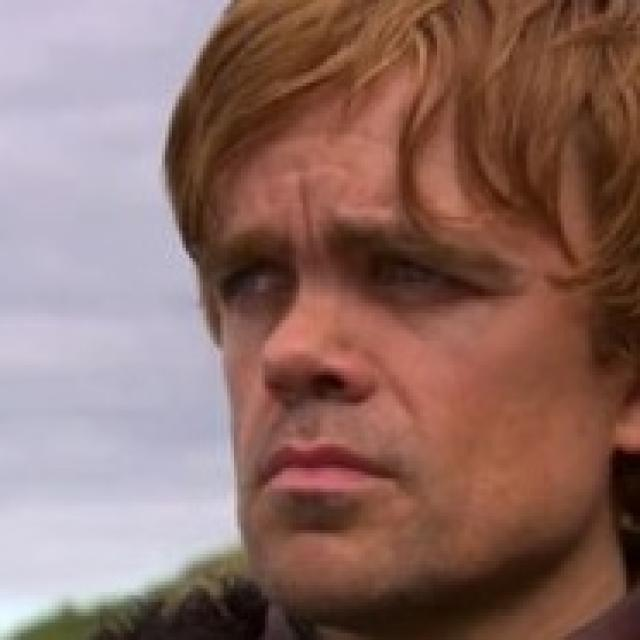Depress: (215, 56, 621, 623)
